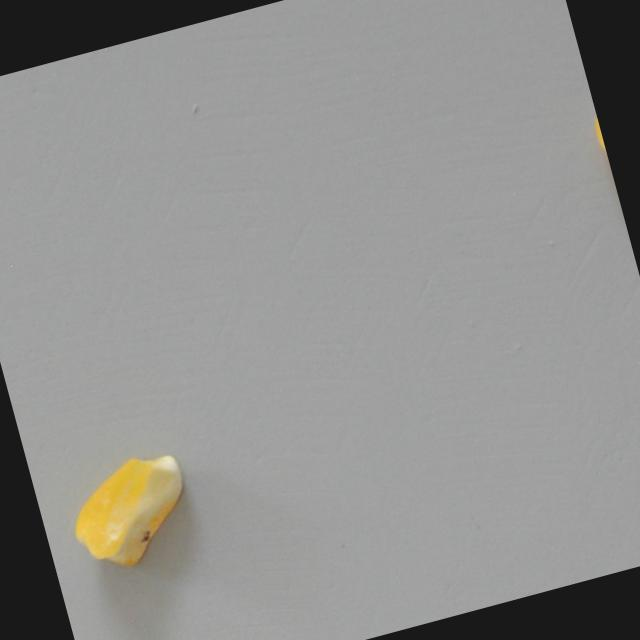dañado: (54, 444, 205, 582), (581, 99, 624, 221)
